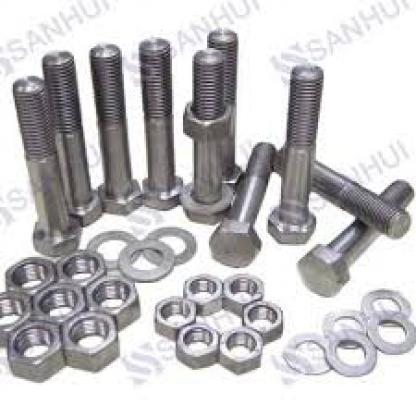METAL: (294, 177, 410, 296), (272, 138, 408, 236), (11, 76, 78, 253), (39, 50, 100, 224), (178, 44, 231, 222), (266, 63, 314, 242), (209, 141, 275, 268), (89, 40, 137, 212), (137, 35, 183, 209), (207, 28, 244, 190), (59, 309, 117, 370), (7, 318, 61, 381), (81, 274, 139, 324), (322, 327, 375, 374), (30, 281, 85, 322), (179, 98, 231, 141), (118, 239, 172, 279), (366, 309, 414, 353), (174, 322, 218, 366), (360, 286, 408, 326), (283, 333, 331, 373), (142, 226, 192, 264), (87, 231, 137, 268), (154, 294, 194, 340), (220, 327, 259, 372), (222, 270, 261, 314), (58, 247, 104, 284), (240, 298, 281, 338), (322, 307, 368, 342), (0, 290, 30, 342), (5, 255, 53, 287), (183, 272, 218, 312)
